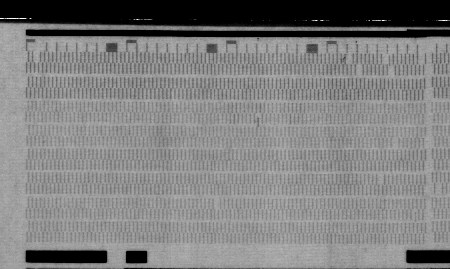Broken hole: (381, 54, 397, 76), (353, 64, 366, 78), (409, 209, 421, 224), (389, 137, 402, 149), (375, 173, 387, 186), (433, 182, 445, 194), (417, 53, 428, 66), (345, 53, 356, 65), (32, 50, 42, 63), (212, 197, 223, 208)
Oblique printing: (253, 113, 265, 128)
